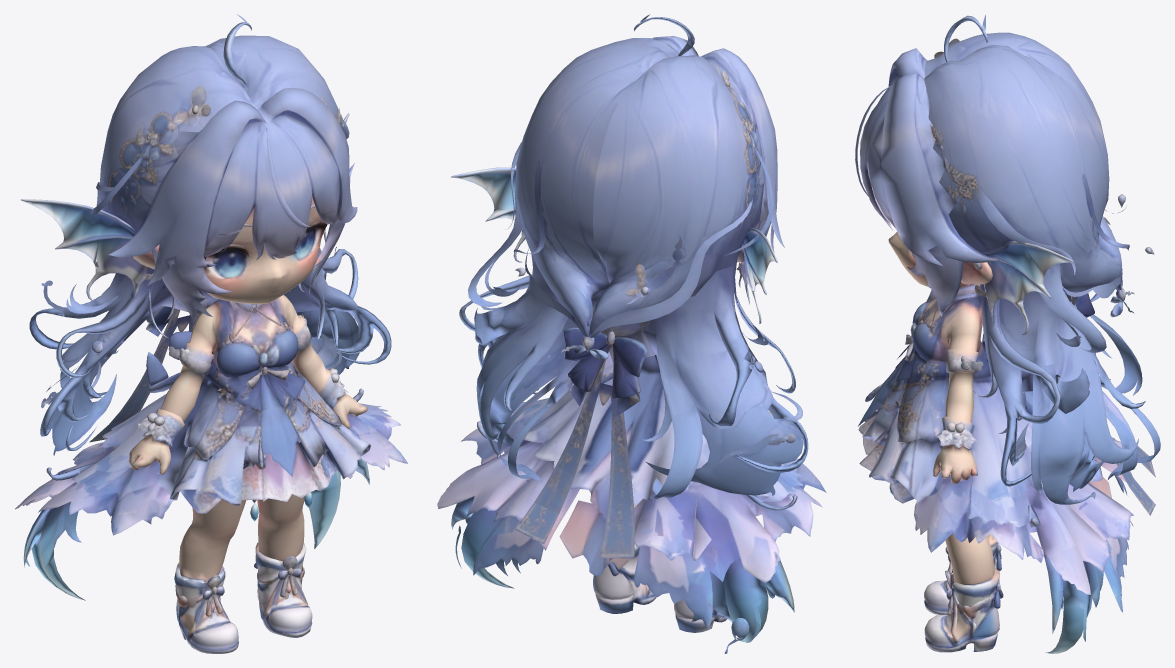
Rendered from source.glb.
3 renders of one model, left to right at view 1: azimuth 30°, elevation 25°; view 2: azimuth 150°, elevation 25°; view 3: azimuth 270°, elevation 25°, orthographic.
Parts seen in each view (by area): view 1: tripo_part_1, tripo_part_6, tripo_part_0, tripo_part_10, tripo_part_2, tripo_part_5, tripo_part_3, tripo_part_14, tripo_part_15, tripo_part_8, tripo_part_7, tripo_part_112 (+6 smaller); view 2: tripo_part_1, tripo_part_2, tripo_part_10, tripo_part_5, tripo_part_3, tripo_part_6, tripo_part_112, tripo_part_94, tripo_part_21, tripo_part_11, tripo_part_14, tripo_part_25 (+9 smaller); view 3: tripo_part_2, tripo_part_1, tripo_part_6, tripo_part_0, tripo_part_3, tripo_part_11, tripo_part_10, tripo_part_8, tripo_part_5, tripo_part_20, tripo_part_57, tripo_part_91 (+1 smaller).
Part boxes in pixels (bbox=[...]): tripo_part_1: bbox=[15, 359, 407, 600]; tripo_part_6: bbox=[108, 87, 357, 323]; tripo_part_0: bbox=[133, 195, 367, 618]; tripo_part_10: bbox=[99, 46, 251, 232]; tripo_part_2: bbox=[187, 35, 391, 594]; tripo_part_5: bbox=[29, 245, 294, 616]; tripo_part_3: bbox=[174, 366, 348, 653]; tripo_part_14: bbox=[21, 199, 148, 302]; tripo_part_15: bbox=[179, 498, 245, 583]; tripo_part_8: bbox=[141, 418, 304, 560]; tripo_part_7: bbox=[129, 396, 184, 474]; tripo_part_112: bbox=[89, 308, 180, 442]; tripo_part_1: bbox=[437, 355, 826, 642]; tripo_part_2: bbox=[459, 38, 681, 482]; tripo_part_10: bbox=[585, 55, 764, 337]; tripo_part_5: bbox=[604, 243, 808, 499]; tripo_part_3: bbox=[513, 161, 727, 632]; tripo_part_6: bbox=[652, 36, 784, 287]; tripo_part_112: bbox=[599, 363, 634, 558]; tripo_part_94: bbox=[559, 500, 630, 576]; tripo_part_21: bbox=[591, 198, 753, 337]; tripo_part_11: bbox=[451, 167, 538, 568]; tripo_part_14: bbox=[741, 228, 777, 323]; tripo_part_25: bbox=[611, 347, 641, 415]; tripo_part_2: bbox=[924, 45, 1160, 554]; tripo_part_1: bbox=[858, 341, 1133, 653]; tripo_part_6: bbox=[860, 48, 997, 316]; tripo_part_0: bbox=[888, 232, 992, 483]; tripo_part_3: bbox=[897, 173, 1129, 652]; tripo_part_11: bbox=[909, 241, 1086, 641]; tripo_part_10: bbox=[924, 32, 1122, 266]; tripo_part_8: bbox=[945, 477, 994, 584]; tripo_part_5: bbox=[947, 294, 1142, 616]; tripo_part_20: bbox=[910, 186, 1075, 333]; tripo_part_57: bbox=[952, 277, 1134, 613]; tripo_part_91: bbox=[896, 262, 1134, 487].
Bounding box in the file's own units: 0.6043 × 1 × 0.4519.
1 material, 1 textured.
